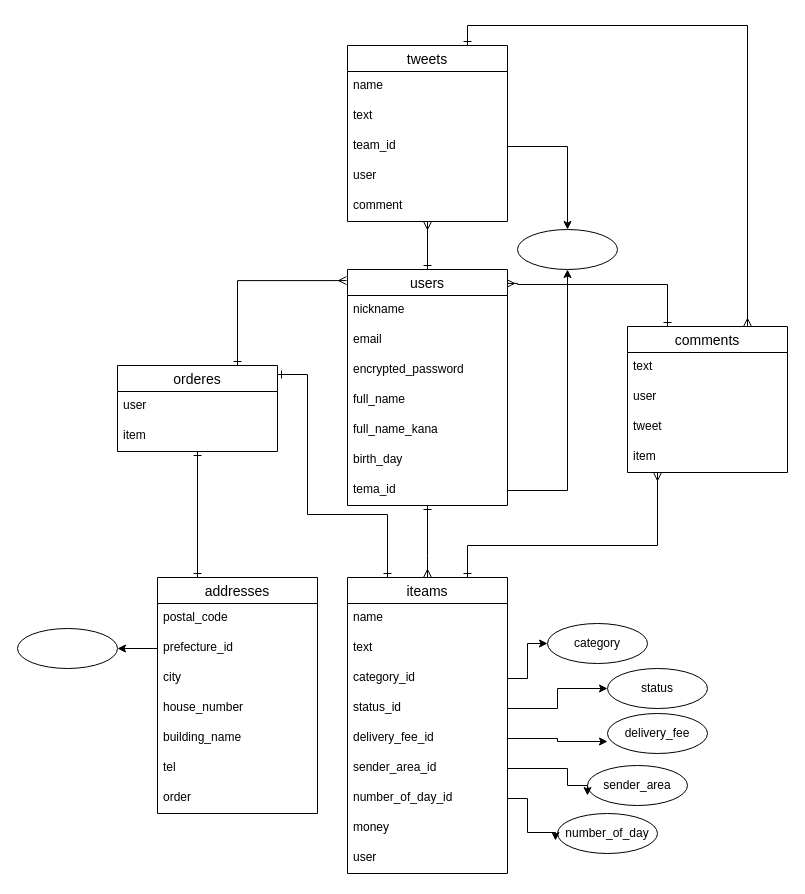
The diagram is 805 pixels wide and 894 high, and some of its shapes have lost their labels. Here are the shapes that lost their labels. From the top down, the centre of each, then its label:
pixel 567 249: team
pixel 67 648: prefecture
